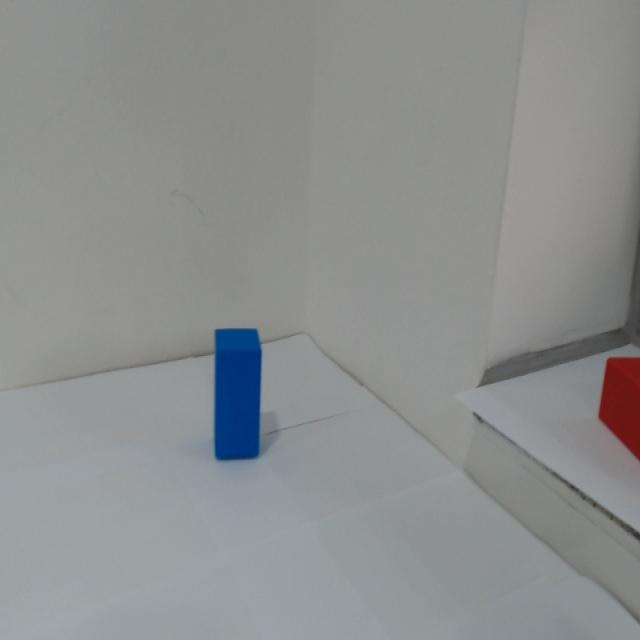cube: (206, 318, 275, 467)
